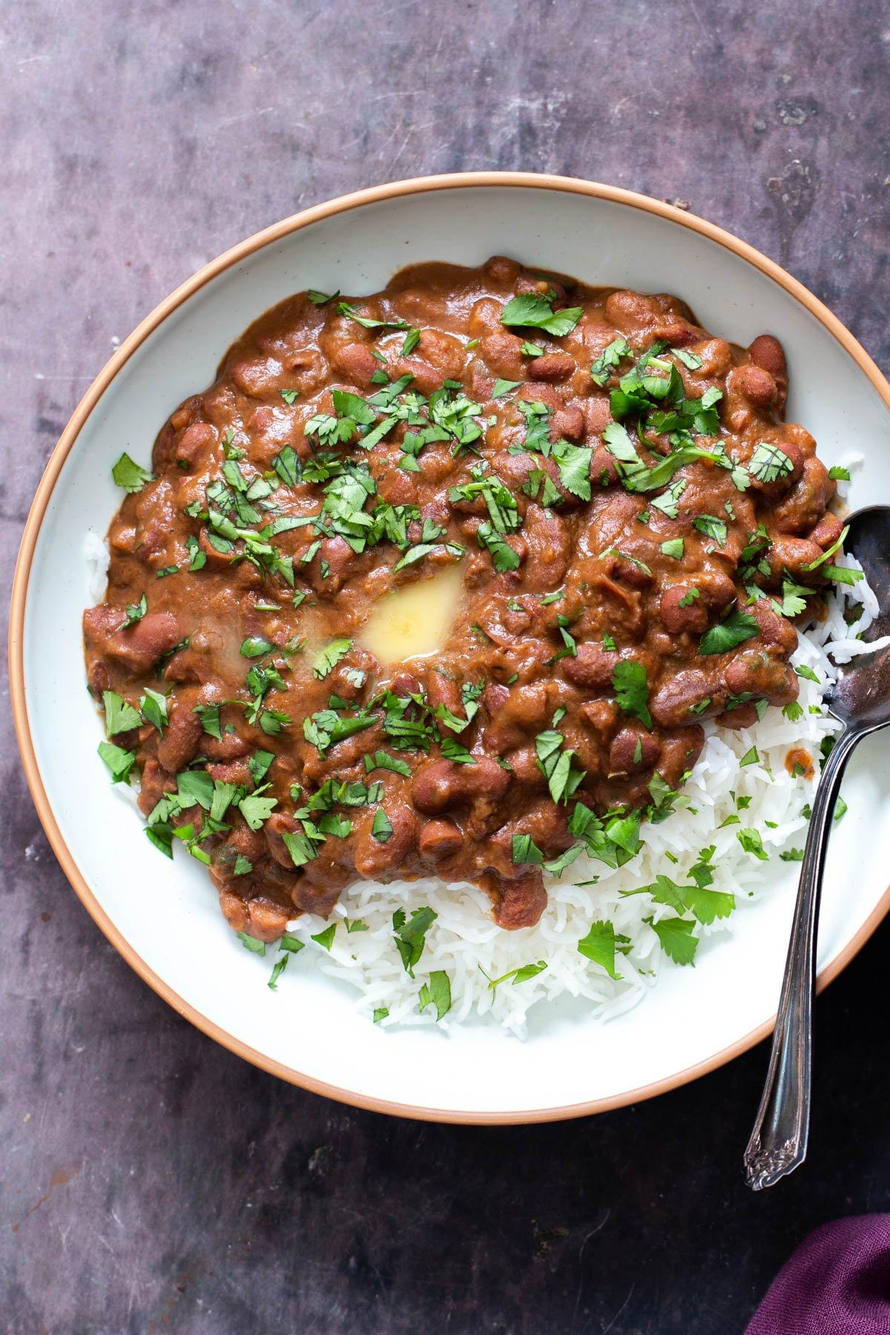rajma: (126, 282, 808, 764)
